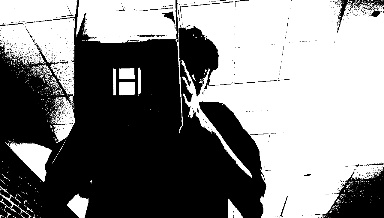H: (112, 67, 141, 94)
